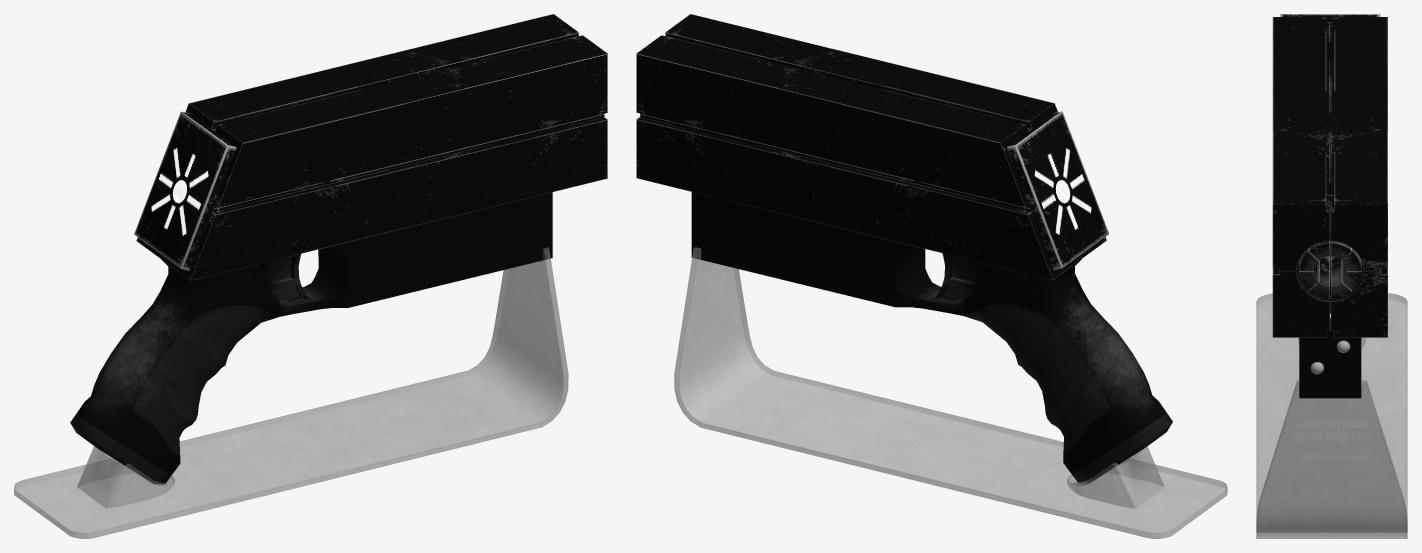
The picture shows the model from 3 angles, left to right: view 1: azimuth 30°, elevation 25°; view 2: azimuth 150°, elevation 25°; view 3: azimuth 270°, elevation 25°; orthographic projection. The views are drawn at different scales.
Parts seen in each view (by area): view 1: f_slider_M_gbe_0, l_stand001, f_handle_M_gbe_0, f_display, l_fixer001_M_stand_0, f_trigger; view 2: f_slider_M_gbe_0, l_stand001, f_handle_M_gbe_0, f_display, l_fixer001_M_stand_0, f_trigger; view 3: f_slider_M_gbe_0, l_stand001, f_handle_M_gbe_0, final_shaft_M_gbe_0, f_display, f_rivets, f_unsean.
Part boxes in pixels (left/top/right/bottom): f_slider_M_gbe_0: left=136, top=14, right=607, bottom=280; l_stand001: left=14, top=247, right=568, bottom=538; f_handle_M_gbe_0: left=70, top=192, right=552, bottom=484; f_display: left=134, top=111, right=236, bottom=270; l_fixer001_M_stand_0: left=77, top=446, right=174, bottom=508; f_trigger: left=267, top=254, right=307, bottom=301; f_slider_M_gbe_0: left=636, top=14, right=1106, bottom=279; l_stand001: left=674, top=247, right=1227, bottom=538; f_handle_M_gbe_0: left=691, top=192, right=1172, bottom=483; f_display: left=1007, top=111, right=1108, bottom=270; l_fixer001_M_stand_0: left=1067, top=446, right=1164, bottom=508; f_trigger: left=935, top=253, right=976, bottom=300; f_slider_M_gbe_0: left=1272, top=17, right=1387, bottom=337; l_stand001: left=1256, top=293, right=1407, bottom=538; f_handle_M_gbe_0: left=1299, top=237, right=1361, bottom=398; final_shaft_M_gbe_0: left=1299, top=241, right=1361, bottom=299; f_display: left=1280, top=14, right=1380, bottom=23; f_rivets: left=1310, top=340, right=1350, bottom=374; f_unsean: left=1326, top=23, right=1334, bottom=236.
Bounding box in the file's own units: 32.86 × 20.52 × 7.57.
2 materials, 2 textured.
